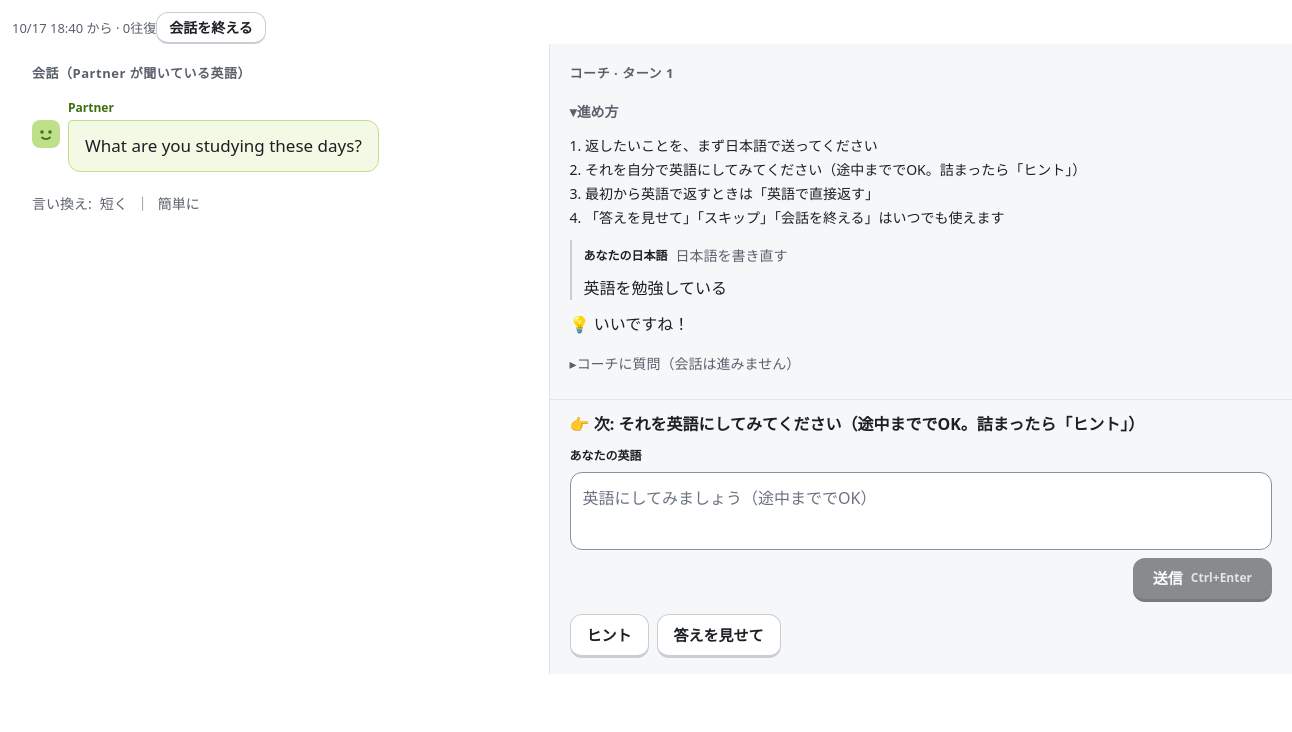
Test: in-session rewrite control › keeps an English draft through cancelling and sending a Japanese rewrite
Type "I study" into the text box labelled "あなたの英語".
click(921, 511); type("I study")  # box [570,472,1272,550]
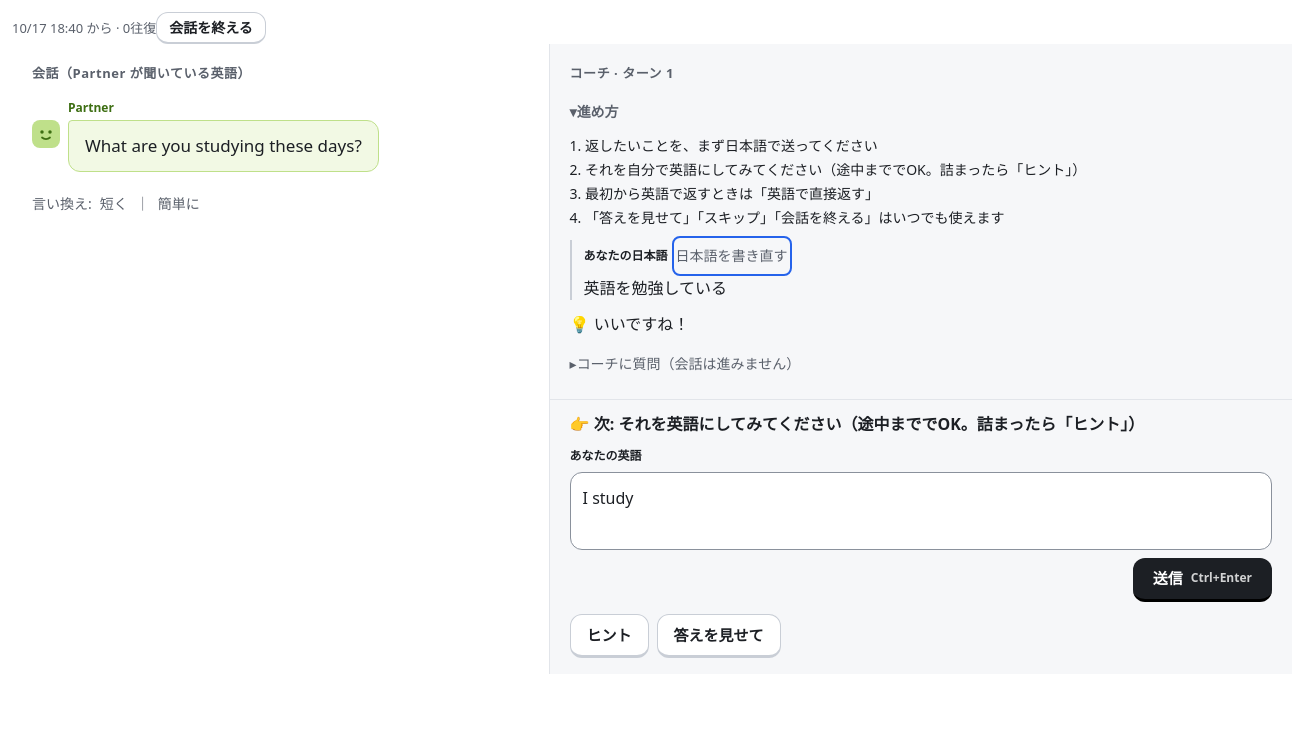
Press Enter
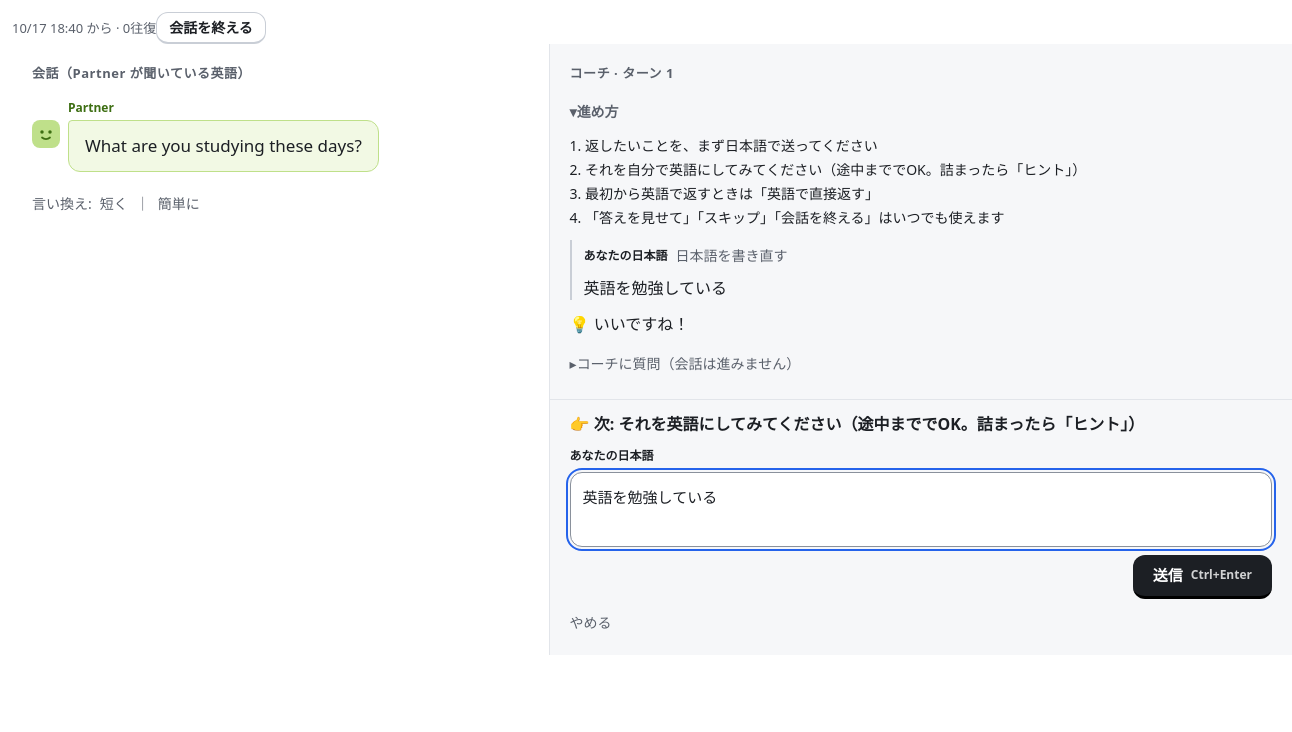
Expected: the text box labelled "あなたの日本語" holds "英語を勉強している", [570,472,1272,546]
Click the button "やめる".
click(591, 622)  # box [570,606,612,638]
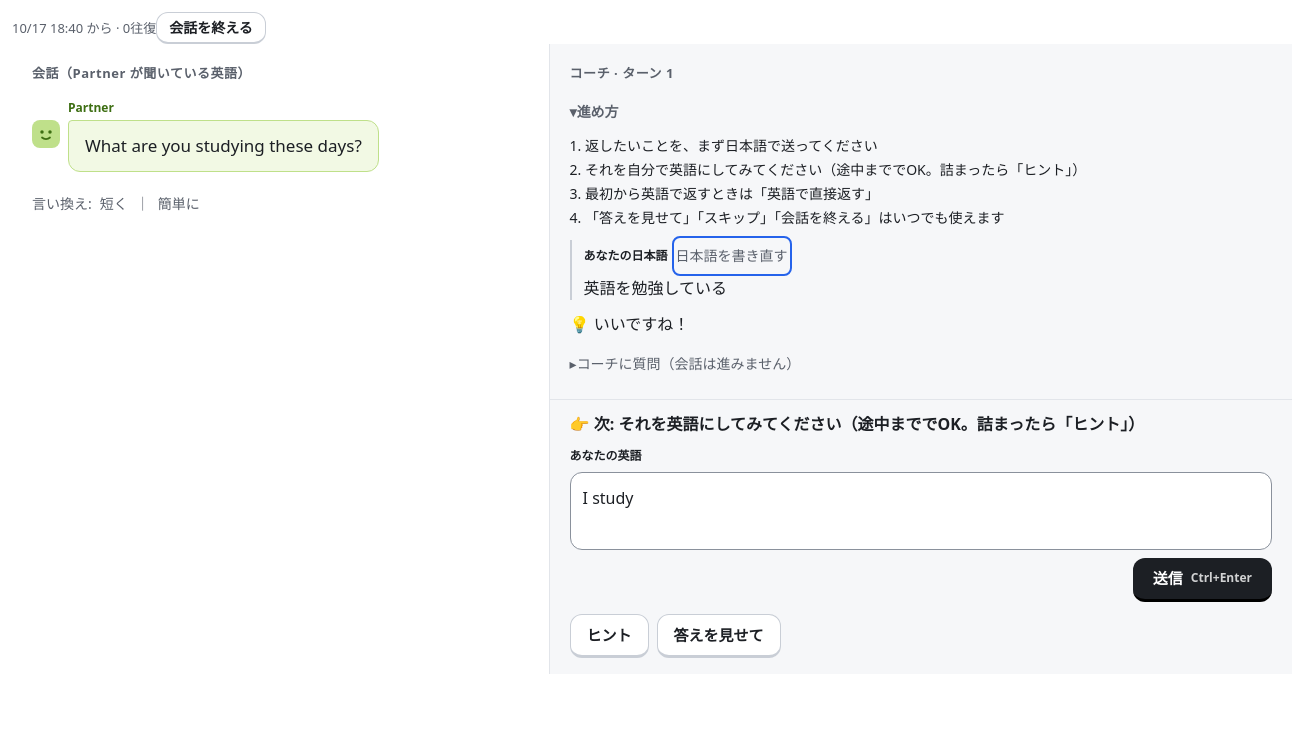
Expected: the text box labelled "あなたの英語" holds "I study", [570,472,1272,550]
Press Enter
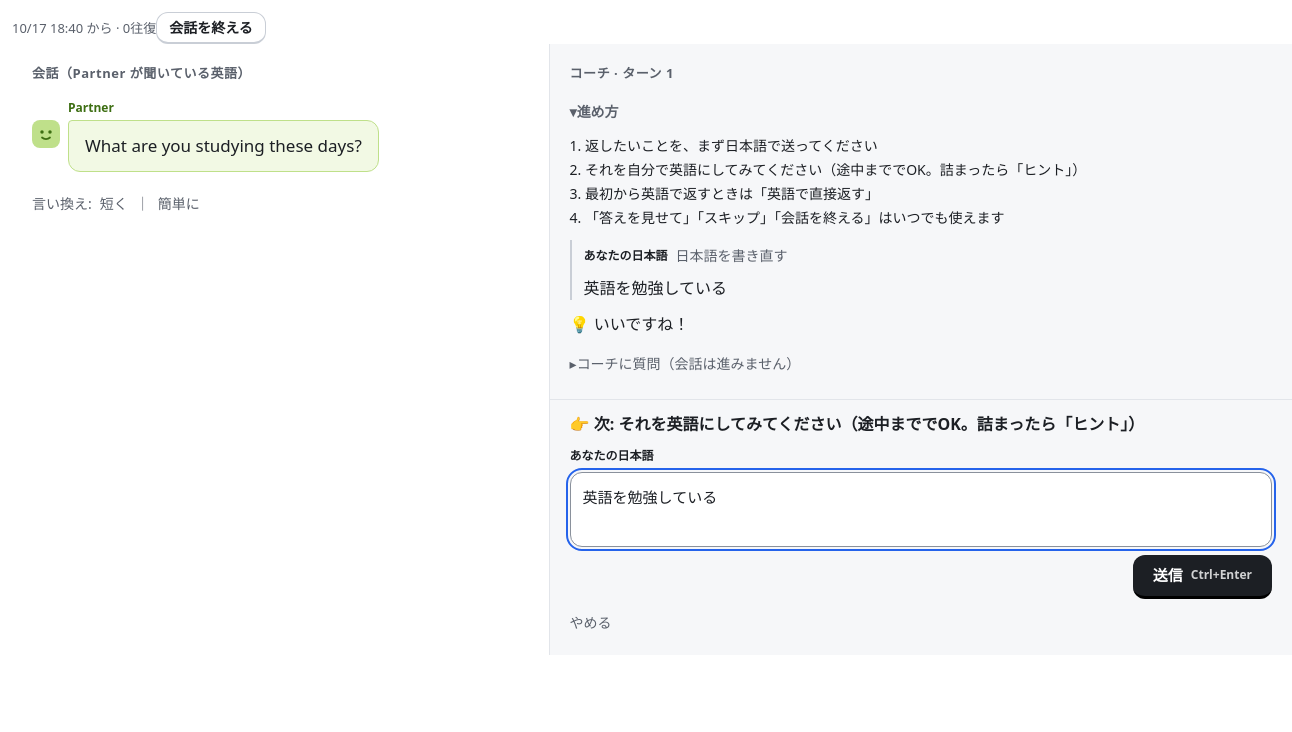
Replace the text in the text box labelled "あなたの日本語" with "最近は料理を勉強している" at (921,509), box [570,472,1272,546]
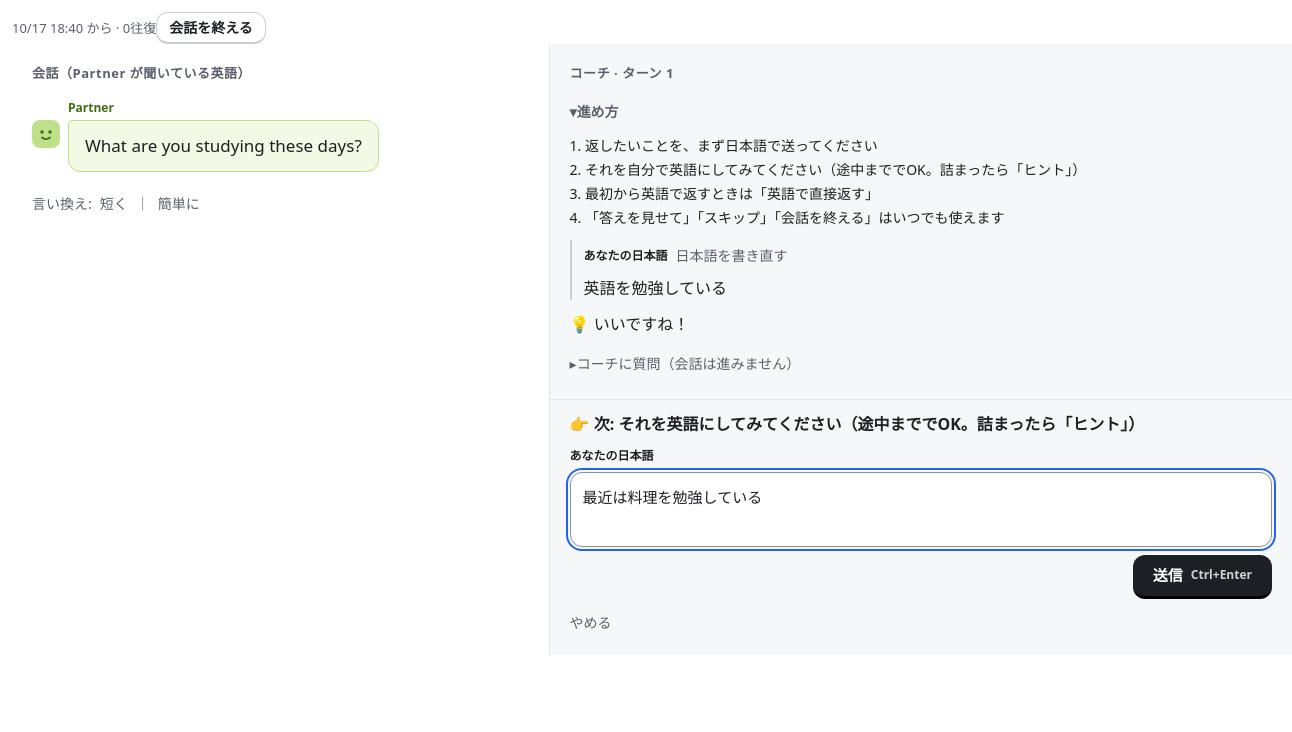
Type keys "{Meta>}{Enter}{/Meta}"
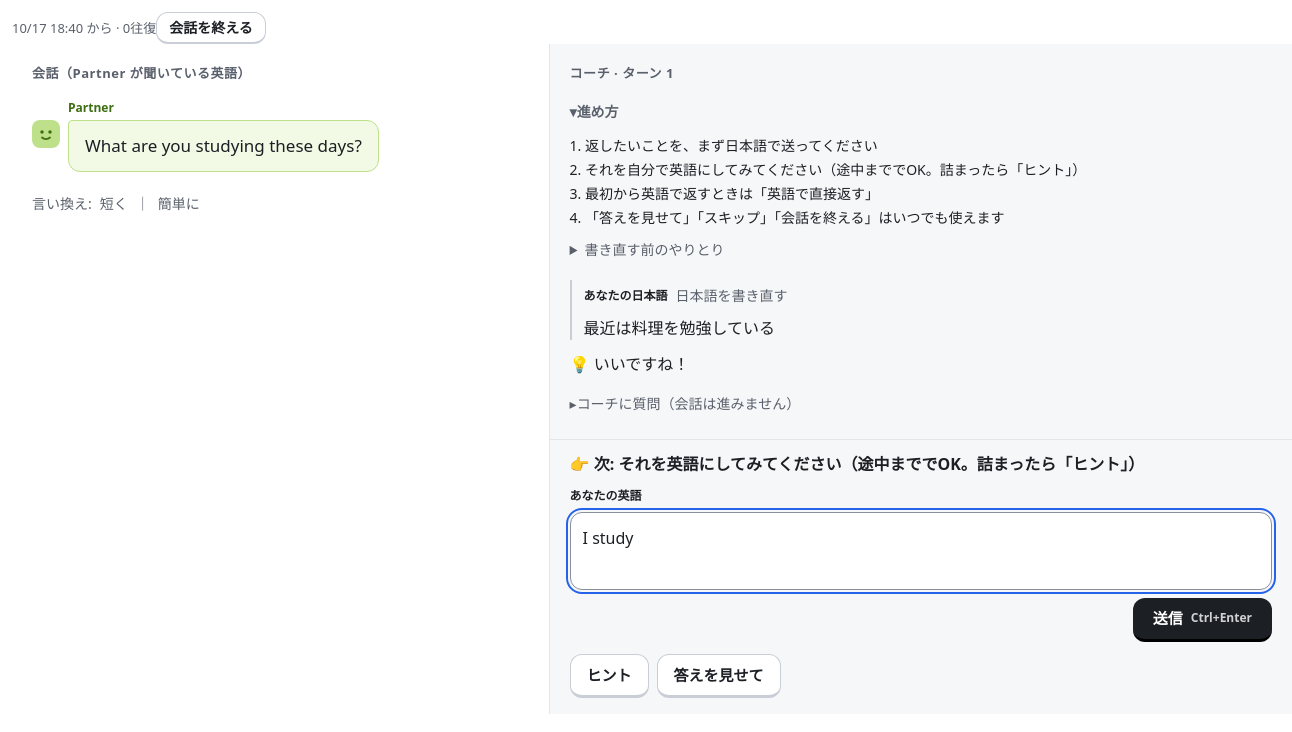
Expected: the text "最近は料理を勉強している" is shown, [584,316,775,338]
Expected: the text box labelled "あなたの英語" holds "I study", [570,512,1272,590]
Expected: the text "英語を勉強している" is gone
